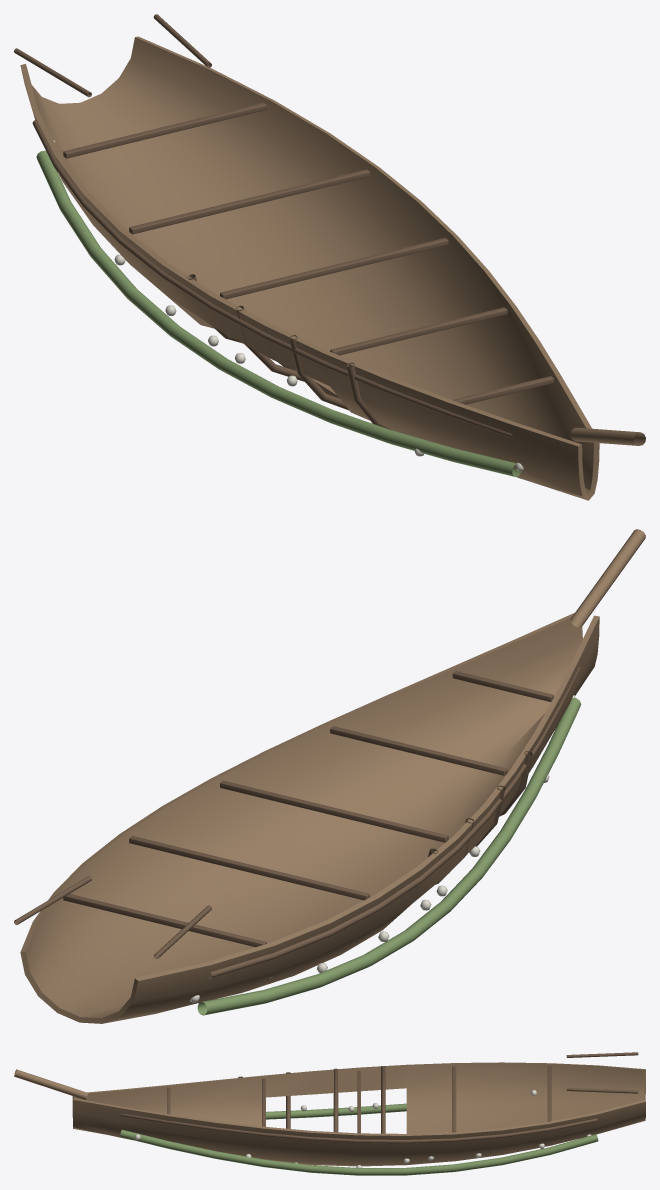
File: wreckhull.glb
3 renders of one model, top to bottom at view 1: azimuth 30°, elevation 25°; view 2: azimuth 150°, elevation 25°; view 3: azimuth 270°, elevation 25°, orthographic. The views are drawn at different scales.
Visible parts, largest first — view 1: hull, weed-1, wale-1, beam4, beam6, beam2, beam8, bowsprit, beam10; view 2: hull, weed-1, wale-1, beam4, beam6, beam2, bowsprit, beam8, beam10; view 3: hull, weed1, wale1, weed-1, bowsprit, rib5, rib6, beam4, beam2, stern1, stern-1, beam6.
Part boxes in pixels (x1=…): hull: x1=20, y1=36, x2=599, y2=500; weed-1: x1=36, y1=150, x2=521, y2=476; wale-1: x1=32, y1=120, x2=512, y2=438; beam4: x1=129, y1=169, x2=369, y2=234; beam6: x1=220, y1=238, x2=448, y2=299; beam2: x1=63, y1=102, x2=266, y2=158; beam8: x1=330, y1=307, x2=507, y2=355; bowsprit: x1=570, y1=427, x2=645, y2=445; beam10: x1=453, y1=376, x2=553, y2=404; hull: x1=20, y1=613, x2=599, y2=1023; weed-1: x1=197, y1=698, x2=581, y2=1015; wale-1: x1=209, y1=667, x2=580, y2=978; beam4: x1=129, y1=836, x2=369, y2=900; beam6: x1=220, y1=780, x2=448, y2=842; beam2: x1=63, y1=894, x2=266, y2=947; bowsprit: x1=570, y1=529, x2=645, y2=627; beam8: x1=330, y1=726, x2=507, y2=775; beam10: x1=452, y1=671, x2=553, y2=701; hull: x1=72, y1=1062, x2=645, y2=1166; weed1: x1=120, y1=1129, x2=598, y2=1175; wale1: x1=120, y1=1113, x2=597, y2=1143; weed-1: x1=266, y1=1103, x2=406, y2=1119; bowsprit: x1=14, y1=1069, x2=87, y2=1099; rib5: x1=381, y1=1066, x2=385, y2=1133; rib6: x1=333, y1=1068, x2=338, y2=1132; beam4: x1=452, y1=1066, x2=456, y2=1132; beam2: x1=547, y1=1066, x2=551, y2=1121; stern1: x1=566, y1=1088, x2=638, y2=1093; stern-1: x1=566, y1=1052, x2=638, y2=1057; beam6: x1=357, y1=1071, x2=360, y2=1133.
Bounding box in the file's own units: 13.08 × 7.48 × 48.69.
